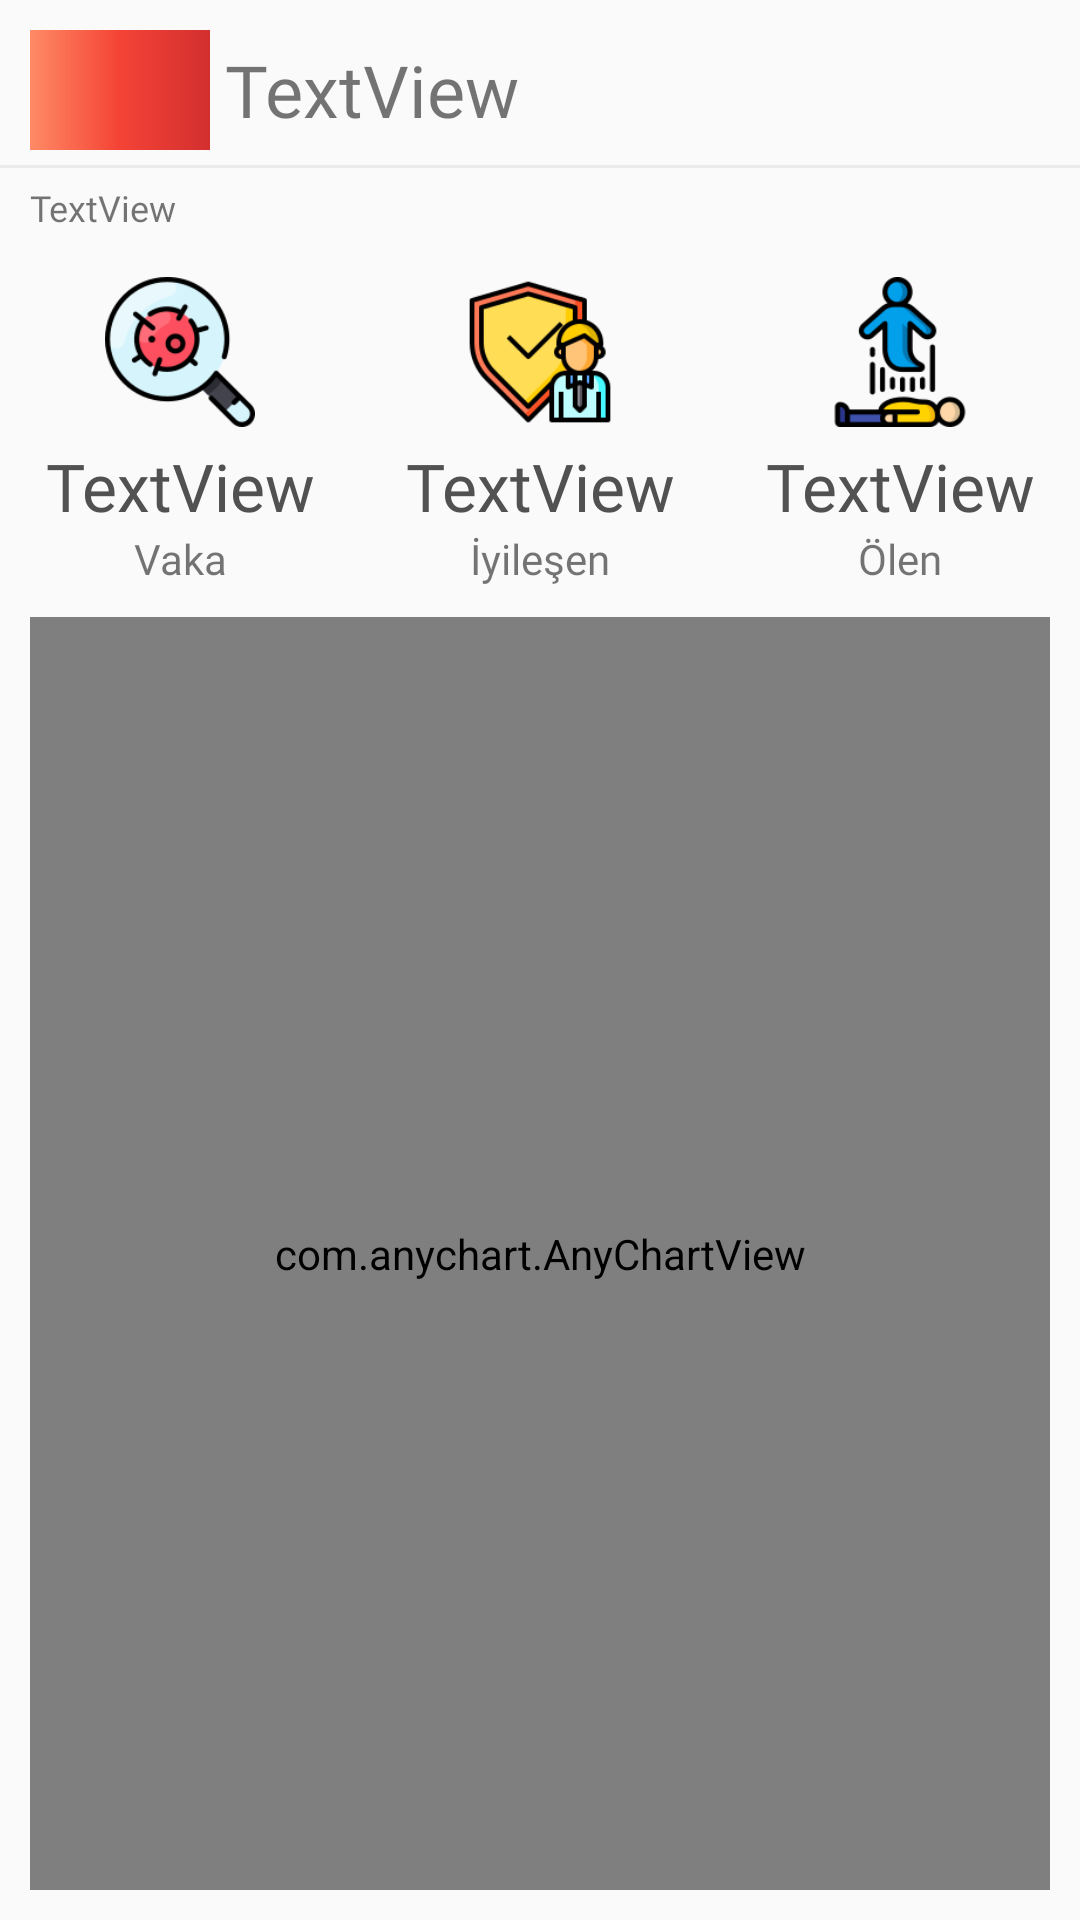

Named icons in this screenshot (1080w x 1920h) and their centers, point (x, y):
coronavirus: point (180, 352)
death: point (900, 352)
insurance: point (540, 352)
